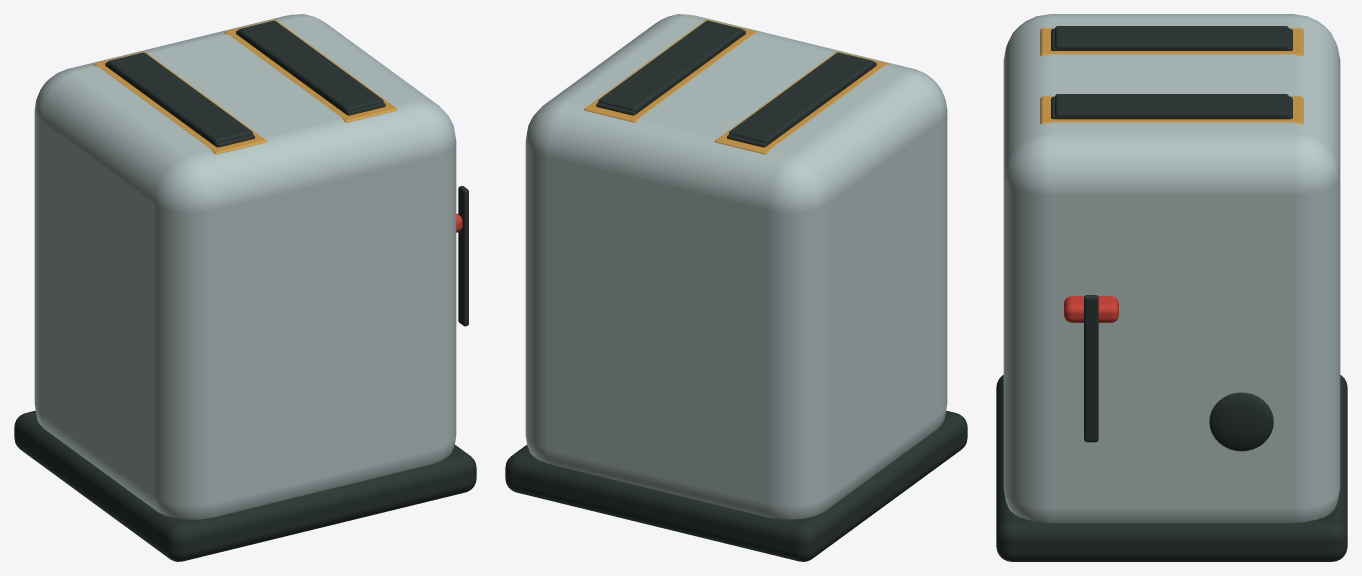
The model's file is toaster.glb.
3 renders of one model, left to right at view 1: azimuth 30°, elevation 25°; view 2: azimuth 150°, elevation 25°; view 3: azimuth 270°, elevation 25°, orthographic. The views are drawn at different scales.
Parts seen in each view (by area): view 1: steel, dark, brass; view 2: steel, dark, brass; view 3: steel, dark, brass, red.
Part boxes in pixels (<box>): steel: <box>34,14,456,519</box>; dark: <box>14,20,476,561</box>; brass: <box>93,19,397,154</box>; steel: <box>525,14,947,519</box>; dark: <box>505,20,967,561</box>; brass: <box>584,19,888,154</box>; steel: <box>1003,14,1340,523</box>; dark: <box>996,26,1347,561</box>; brass: <box>1040,28,1303,124</box>; red: <box>1064,296,1118,322</box>.
Bounding box in the file's own units: 0.569 × 0.63 × 0.48.
